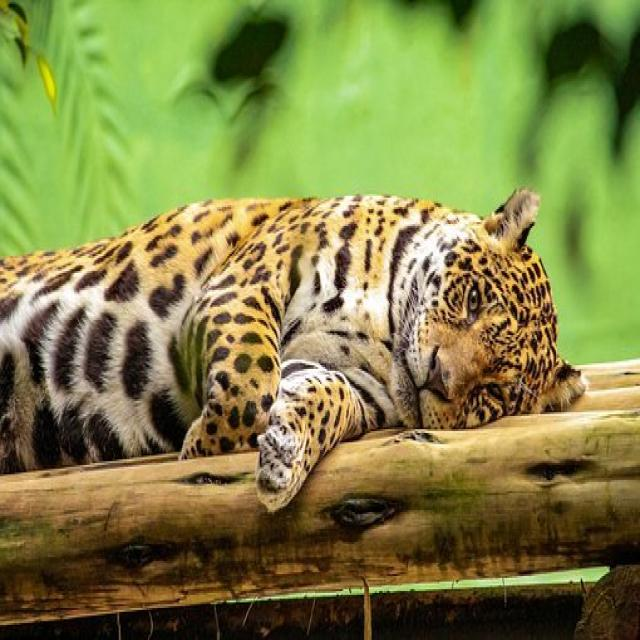Jaguar: (0, 186, 587, 517)
